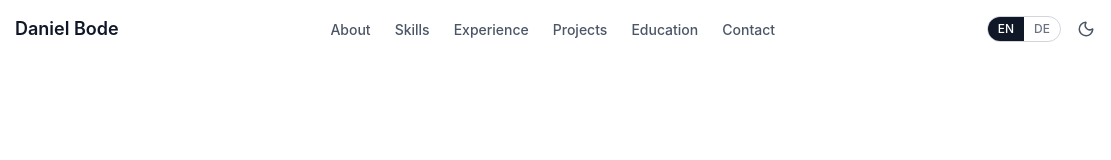
it: Navbar › switches to DE nav labels after clicking DE button
Click the button with aria-label "Switch to German" at (1042, 29), box [1024,17,1060,41]
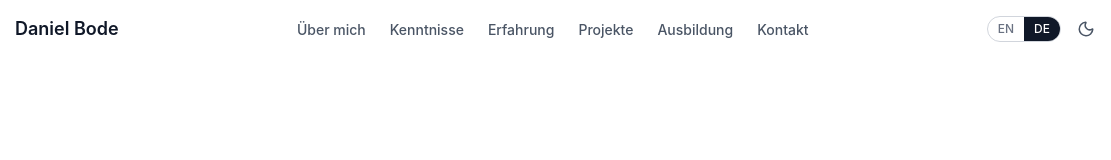
Result: the link "Über mich" is shown at [297,21,366,38]
Result: the link "Kenntnisse" is shown at [390,21,464,38]
Result: the link "Erfahrung" is shown at [488,21,554,38]
